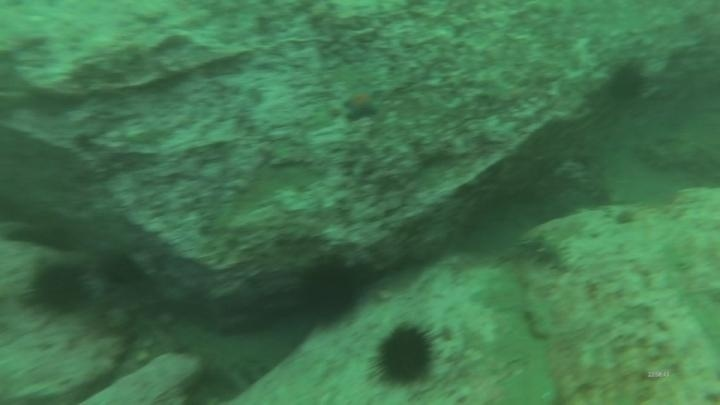echinus: (292, 255, 367, 328), (368, 319, 441, 390), (23, 258, 94, 320), (604, 59, 648, 105)
holothurian: (517, 228, 576, 275)
starfish: (340, 82, 384, 122)
